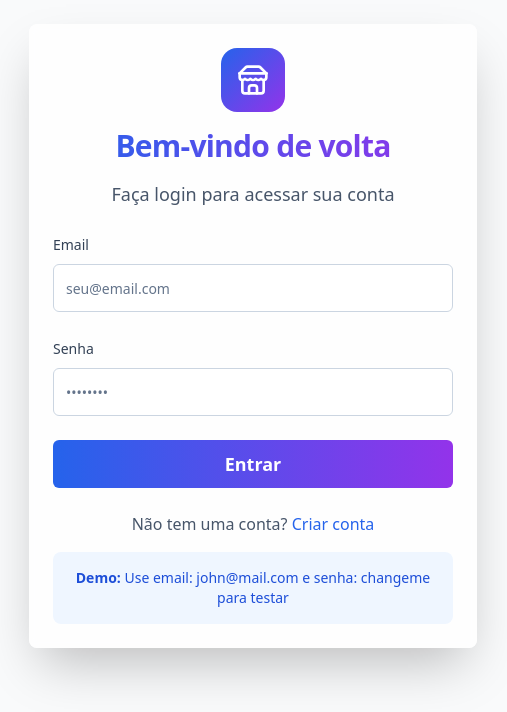
Scenario: Login › deve mostrar erro quando login falha
Type "teste@example.com" into the field labelled "Email" at coordinates (253, 288), box 53,264 -> 453,312
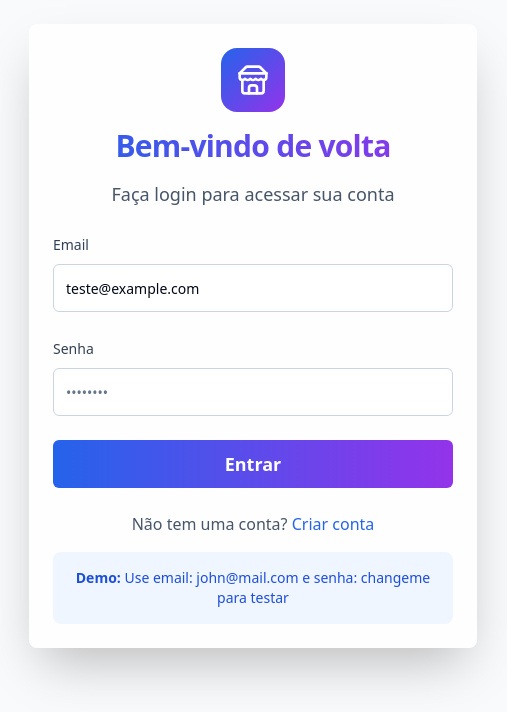
Type "senha123" into the password field labelled "Senha" at coordinates (253, 392), box 53,368 -> 453,416
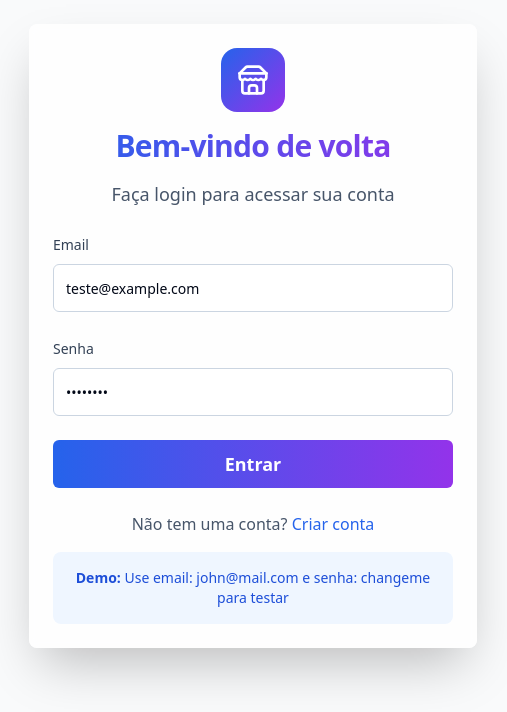
Click the button "Entrar" at coordinates (253, 464), box 53,440 -> 453,488
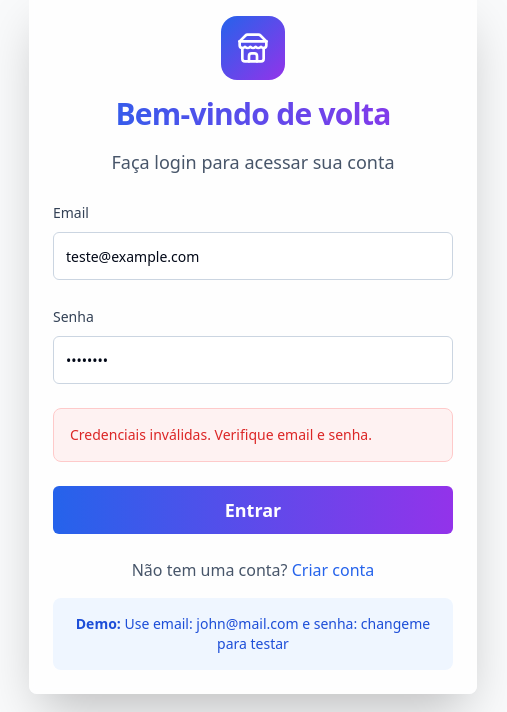
expect the text "Credenciais inválidas. Verifique email e senha." is shown: met, box 70,425 -> 372,444
